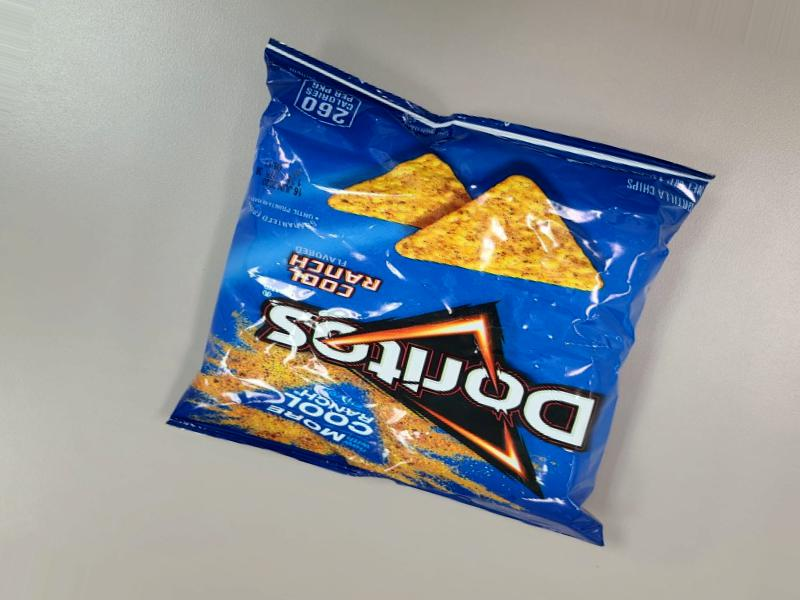doritos: (191, 13, 763, 567)
